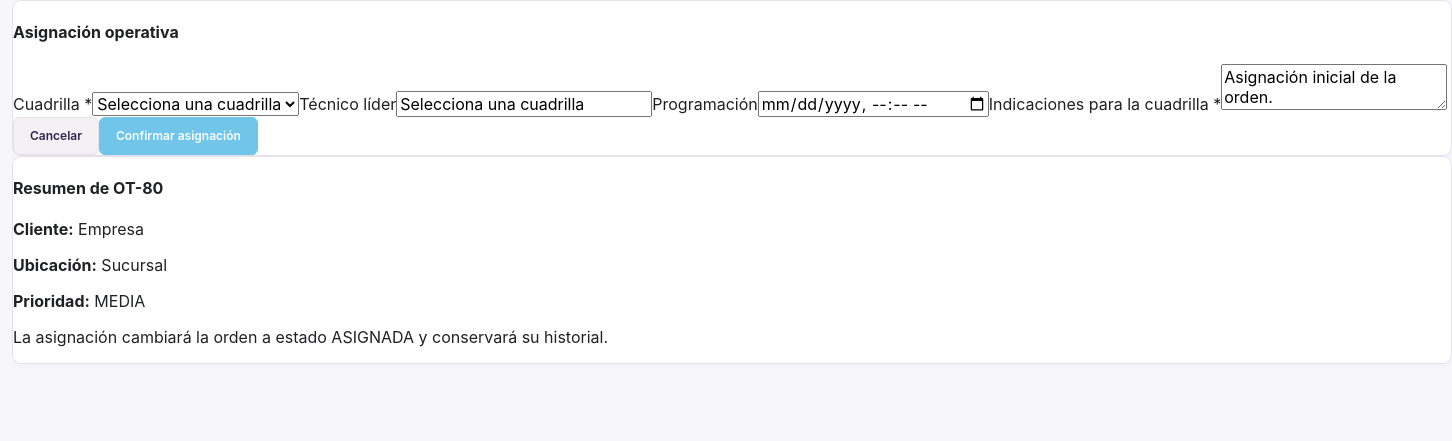
Scenario: Asignación visual de órdenes según Figma › presenta los errores del backend sin cerrar formulario
The width and height of the screenshot is (1452, 441).
Select "Cuadrilla Norte" in the dropdown named "Cuadrilla para asignación" at (196, 104), box [92,92,299,116]
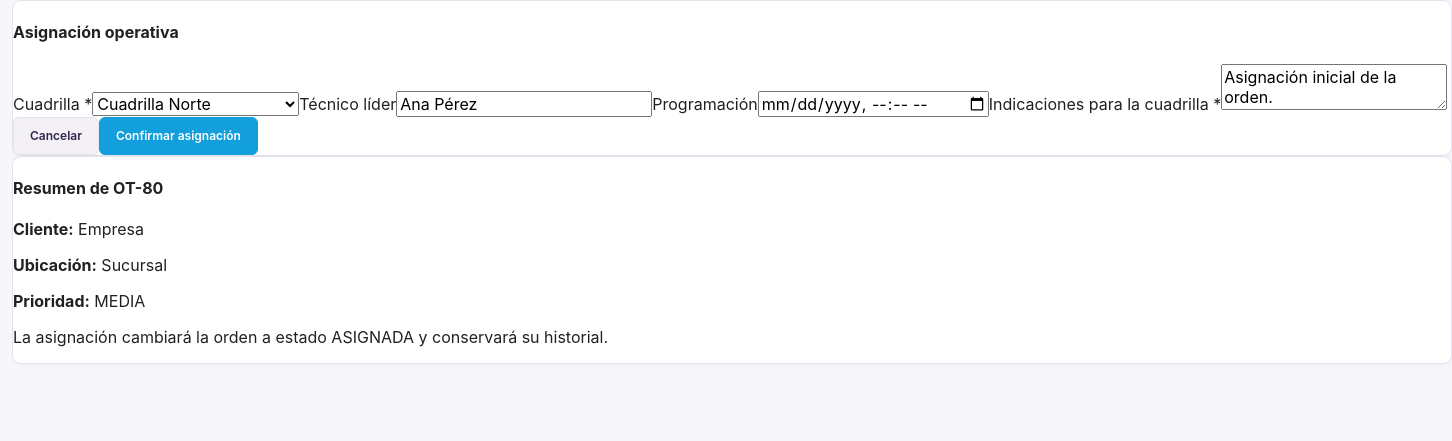
Click the button "Confirmar asignación" at (178, 136), box [99,116,258,154]
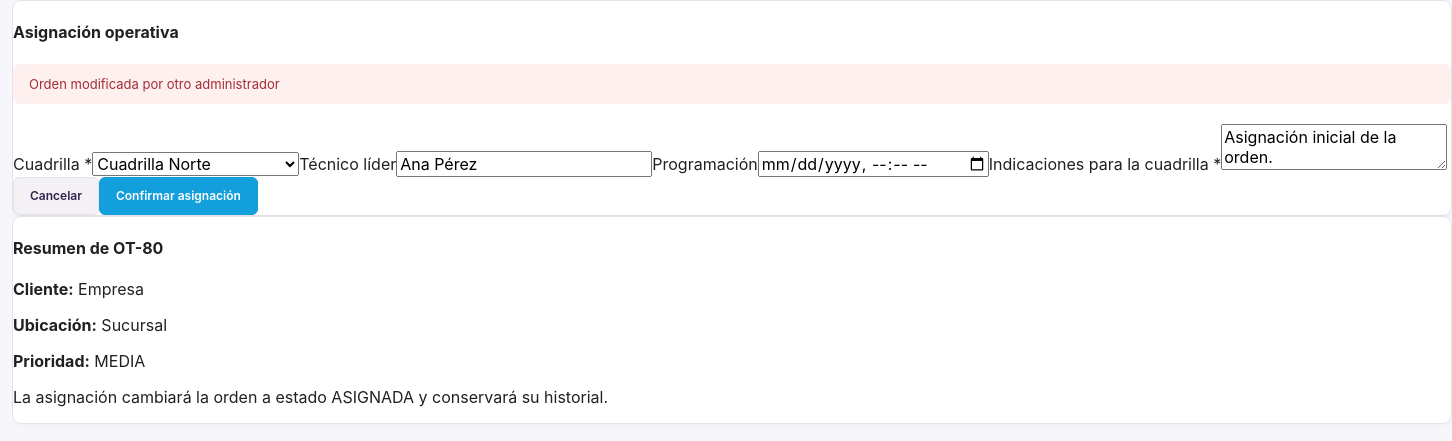
Result: the message reads "Orden modificada por otro administrador" at [29,76,280,92]
